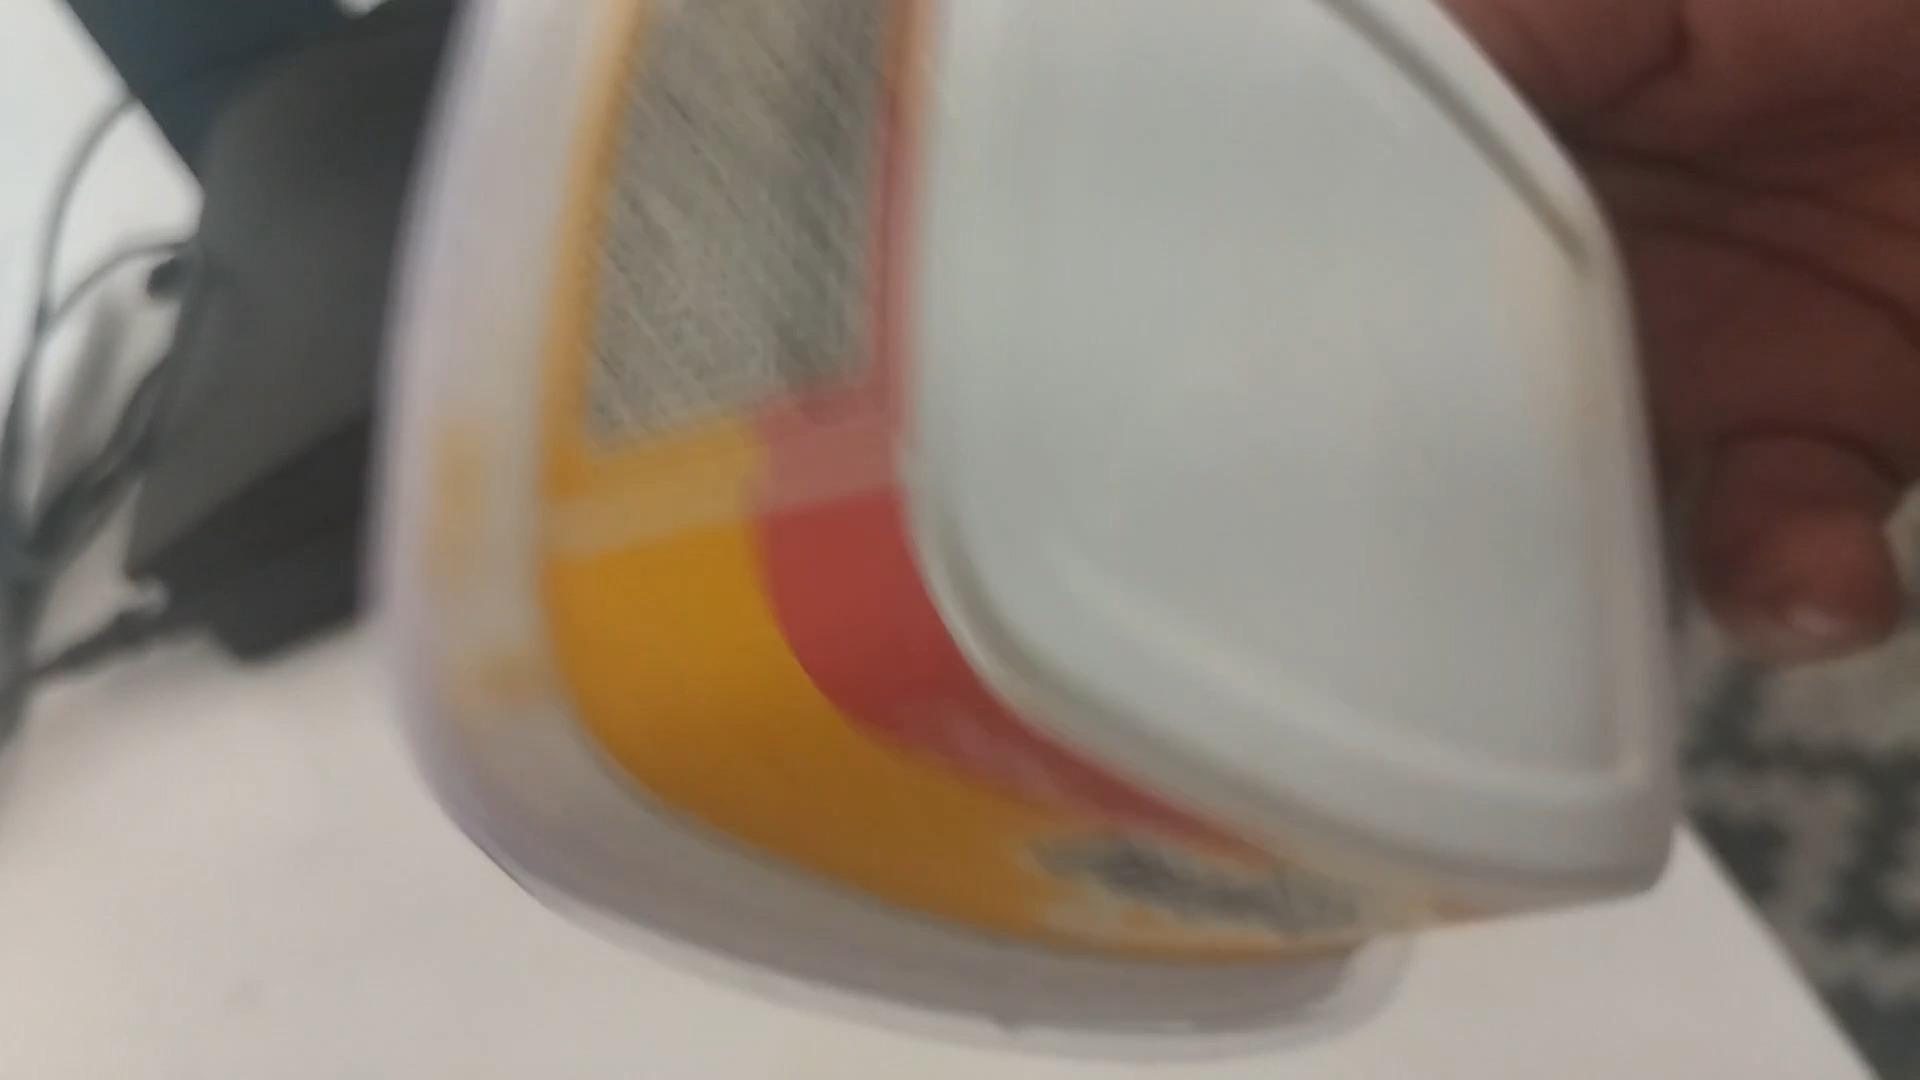butter: (368, 8, 1664, 1036)
